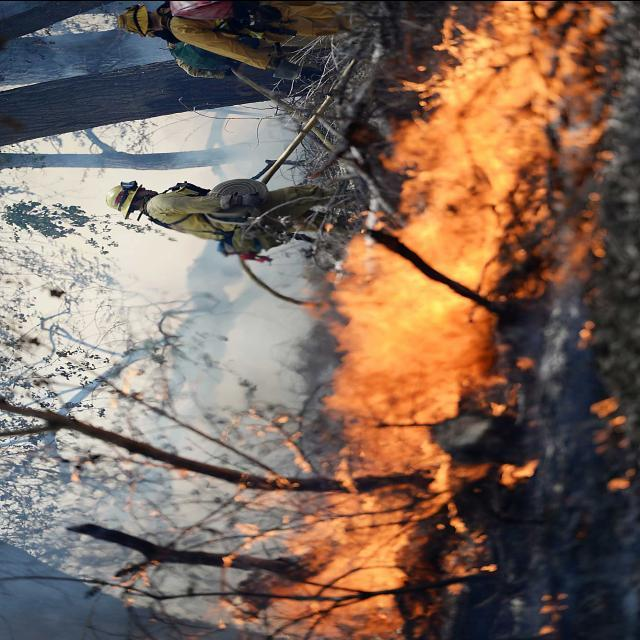Fire: (220, 0, 604, 626)
